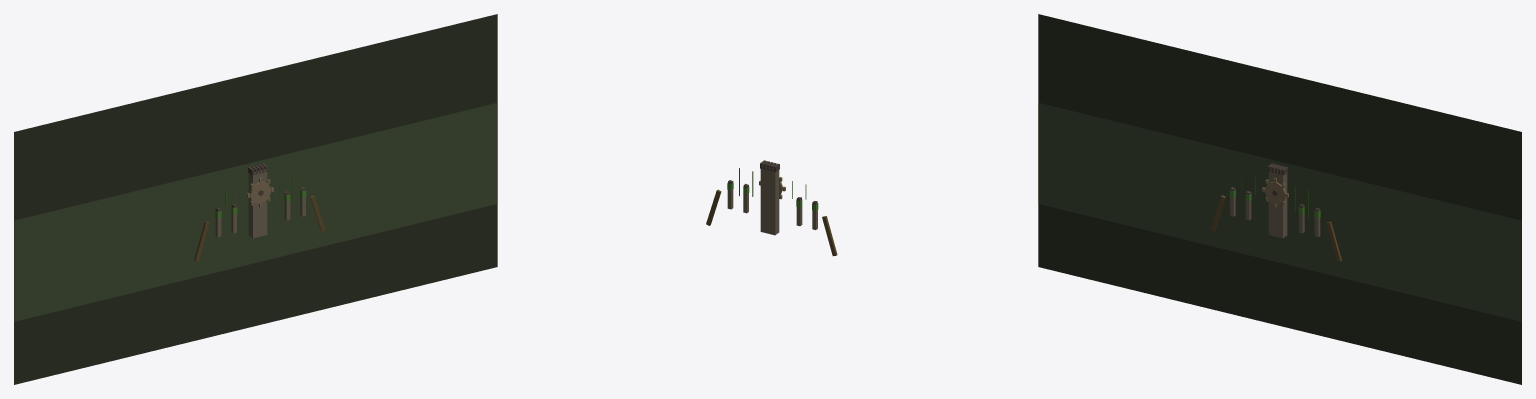
The model's file is ancientRuin.glb.
The picture shows the model from 3 angles, left to right: view 1: azimuth 30°, elevation 25°; view 2: azimuth 150°, elevation 25°; view 3: azimuth 330°, elevation 25°; orthographic projection.
Parts seen in each view (by area): view 1: background, object 2, object 3; view 2: object 3; view 3: background, object 2, object 3.
Part boxes in pixels (x1=…): background: x1=14, y1=14, x2=497, y2=384; object 2: x1=14, y1=103, x2=497, y2=321; object 3: x1=248, y1=169, x2=267, y2=238; object 3: x1=760, y1=166, x2=779, y2=235; background: x1=1038, y1=14, x2=1521, y2=384; object 2: x1=1038, y1=103, x2=1521, y2=321; object 3: x1=1268, y1=169, x2=1287, y2=238.
Size of the model in its own units: 4000 by 2000 by 87.
